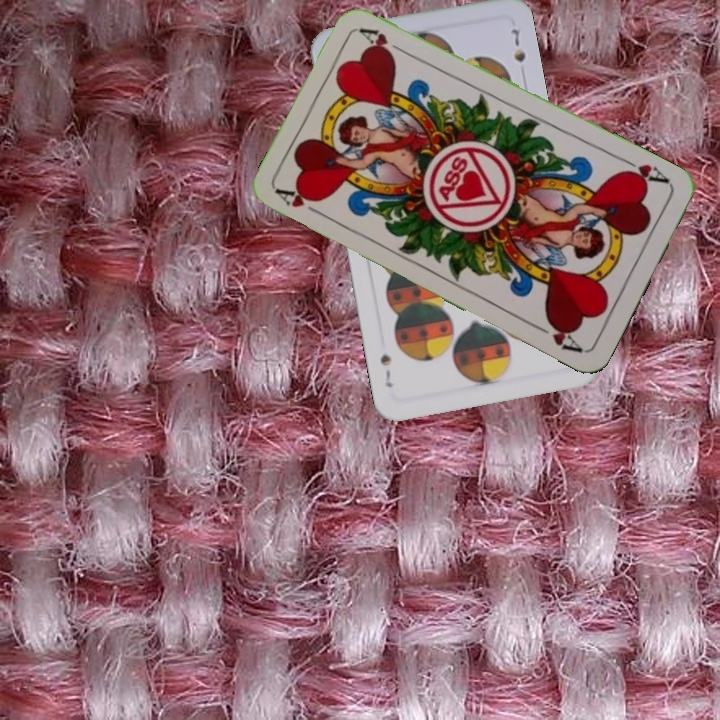HA: (273, 184, 329, 220), (617, 154, 672, 188)
